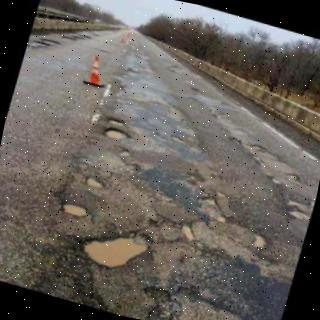pothole: (81, 237, 148, 269), (60, 202, 92, 219), (84, 175, 103, 189), (103, 129, 127, 140), (107, 117, 127, 127)
